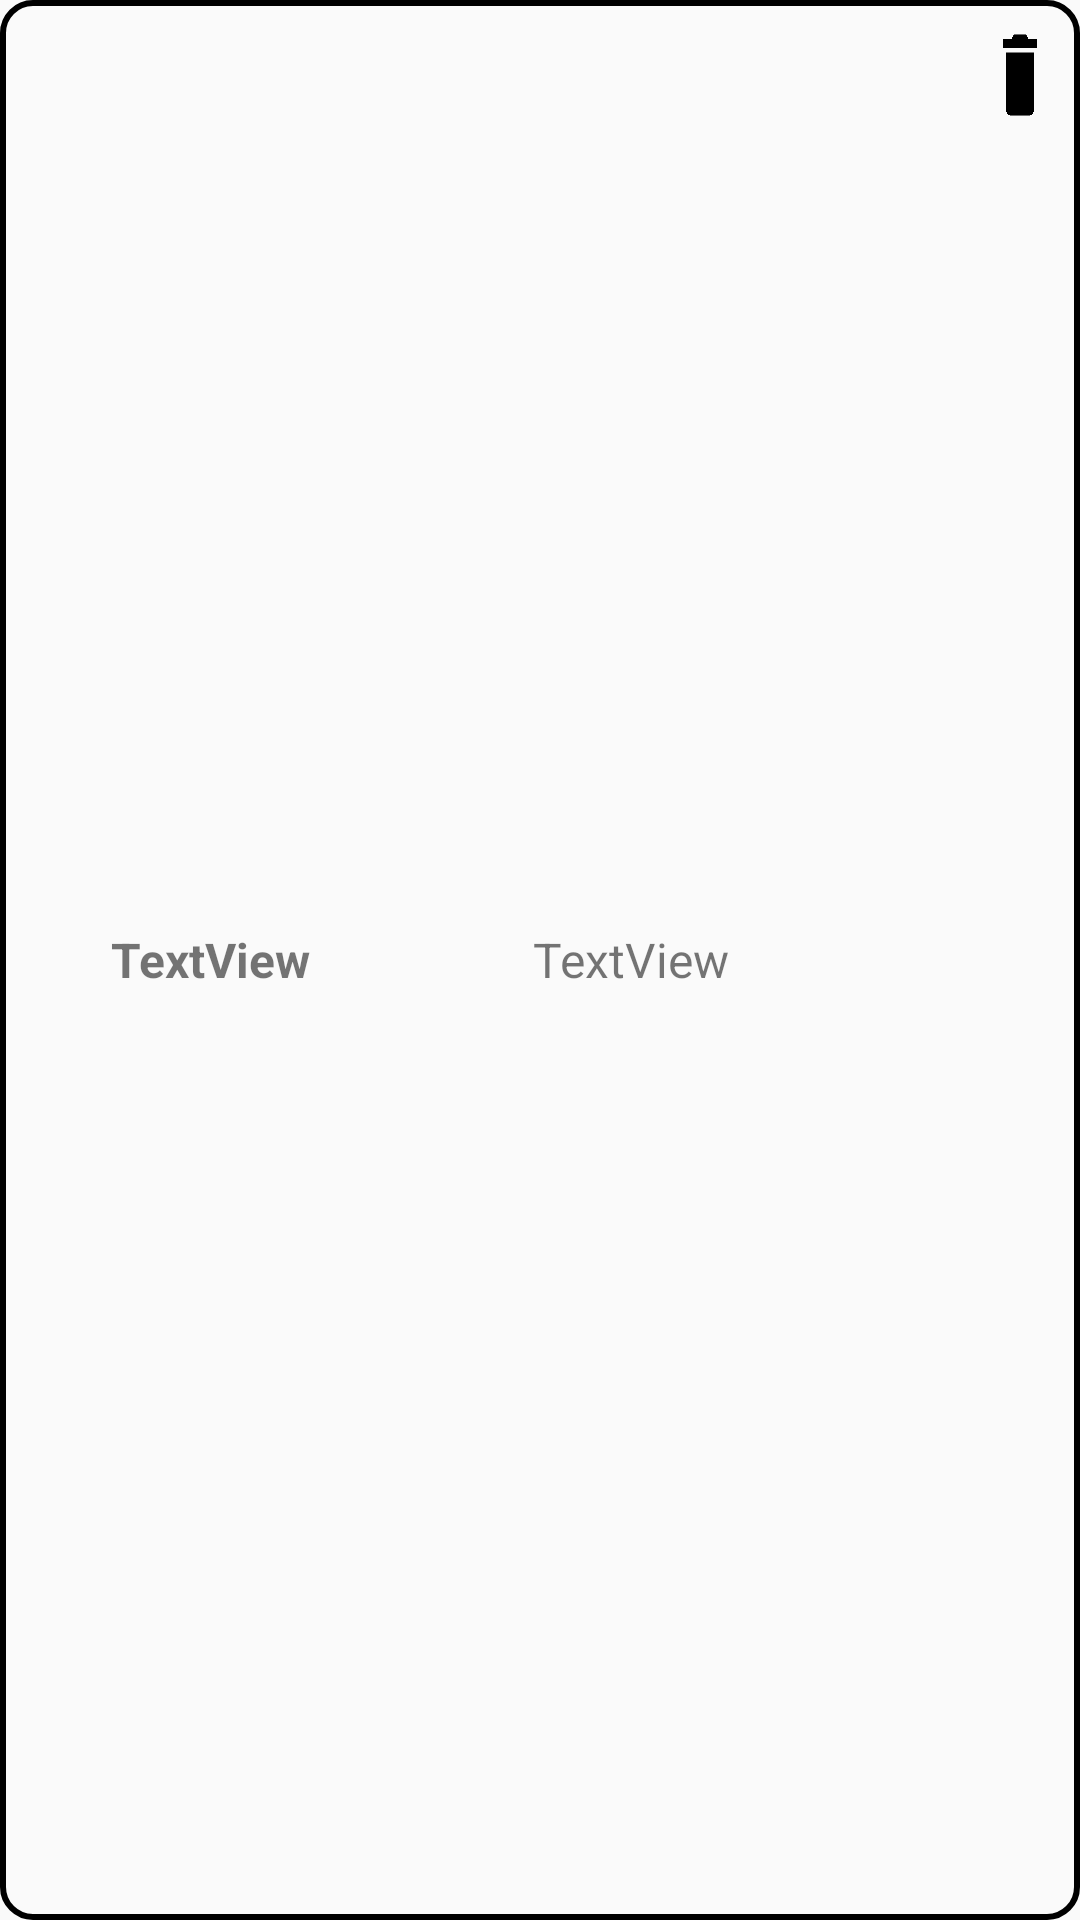

Screen size 1080px x 1920px. Icon name, then its center in pixels as [x,y]:
trash: [1020,75]
